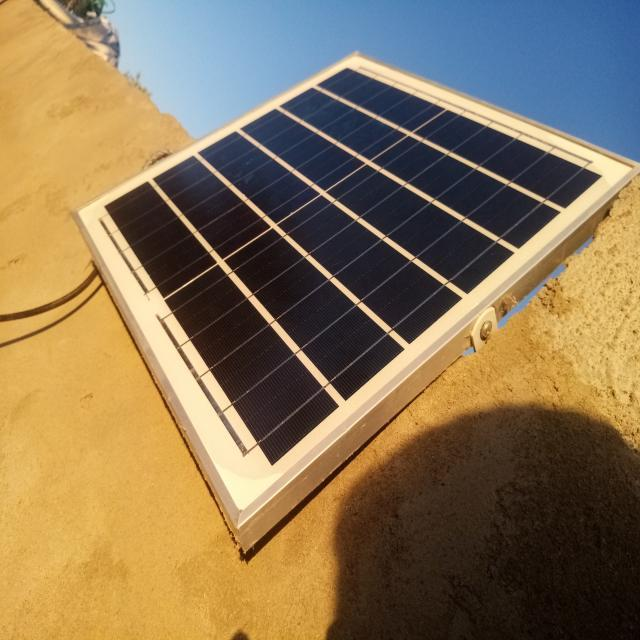no faulty: (72, 53, 637, 519)
